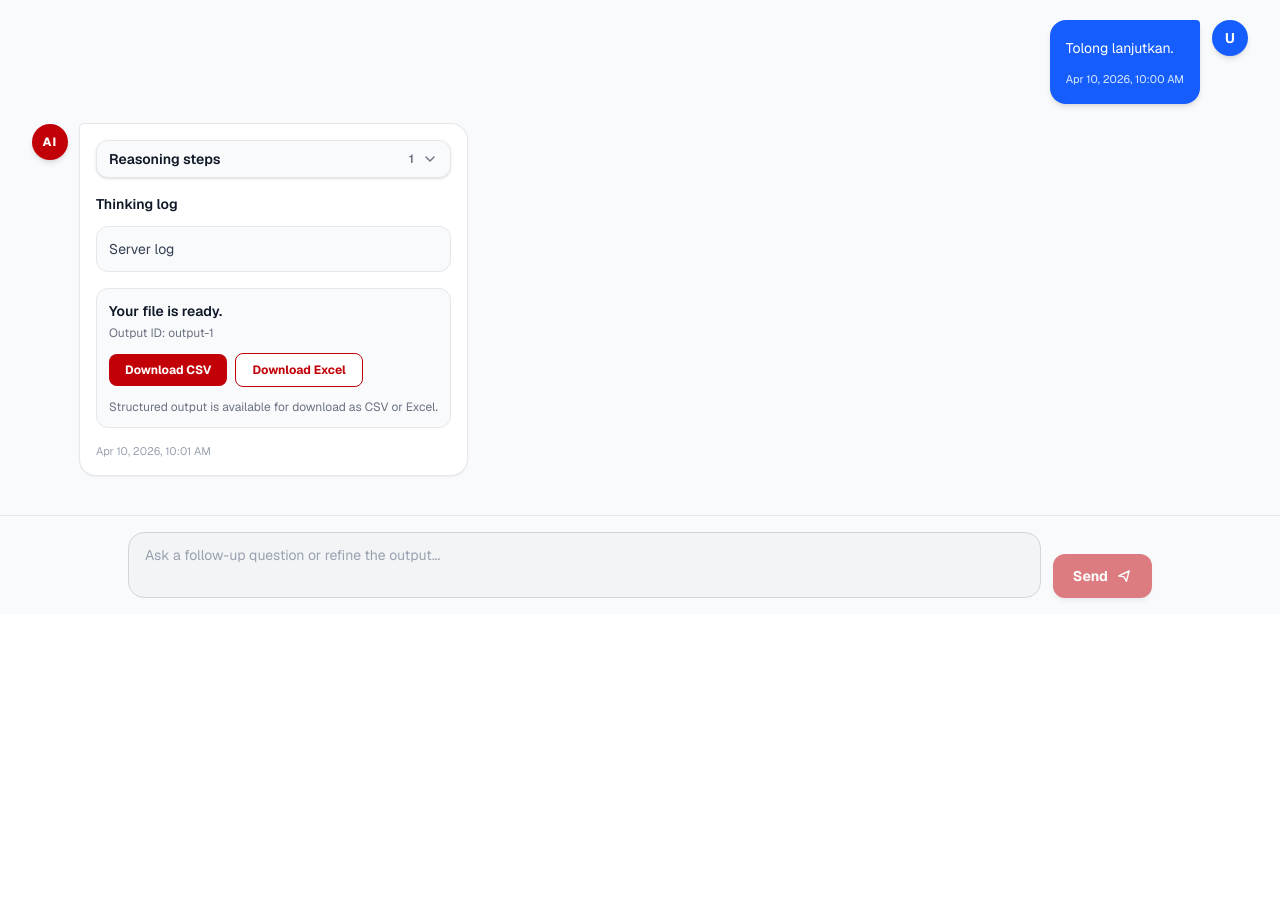
Test: SessionConversationView › shows fallback error as an assistant bubble when follow-up generation fails with non-Error
Type "fail case" into the text box named "Follow-up message" at (584, 565), box [128,532,1041,598]
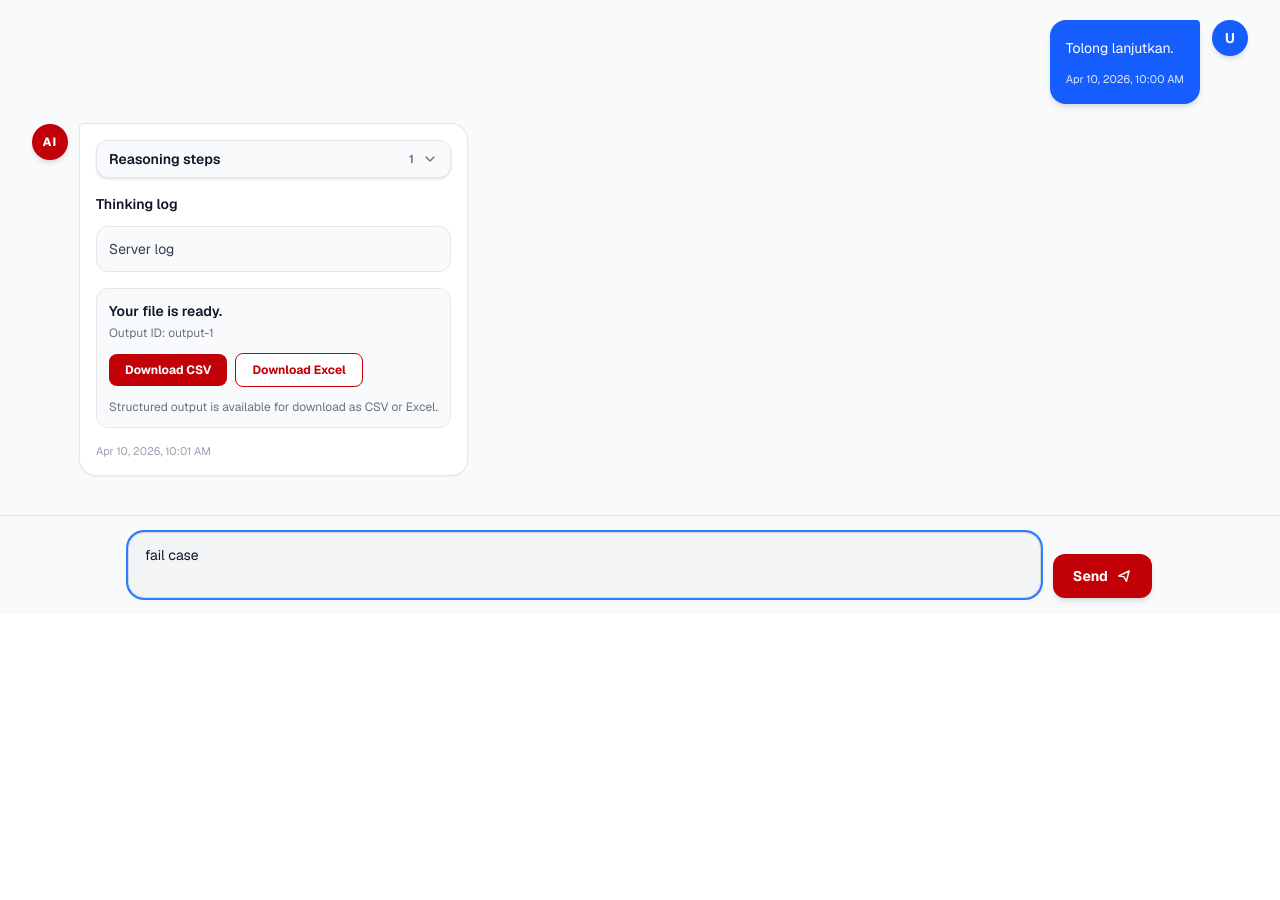
Click the button "Send" at (1102, 576), box [1053,554,1152,598]
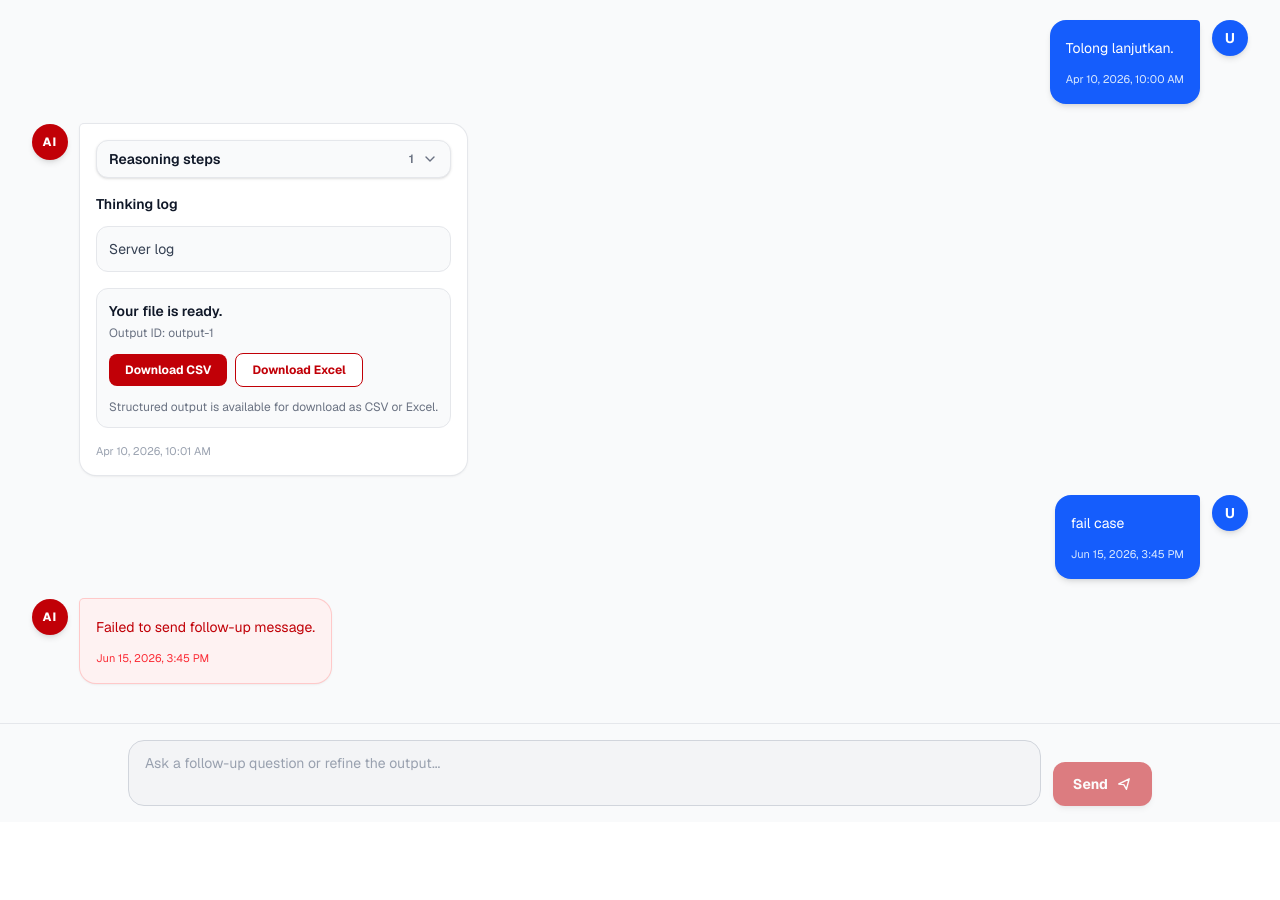
Result: the text "Failed to send follow-up message." is shown at [96,615,315,639]
Result: the text "AI" next to "Failed to send follow-up message." is shown at [43,609,57,625]
Result: the text box named "Follow-up message" is empty at [128,740,1041,806]
